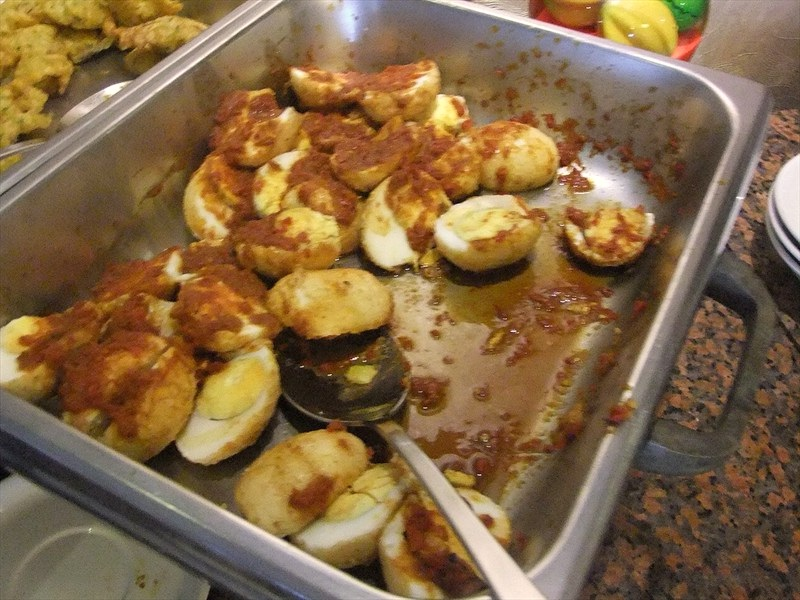Telur Balado: (137, 14, 693, 556)
